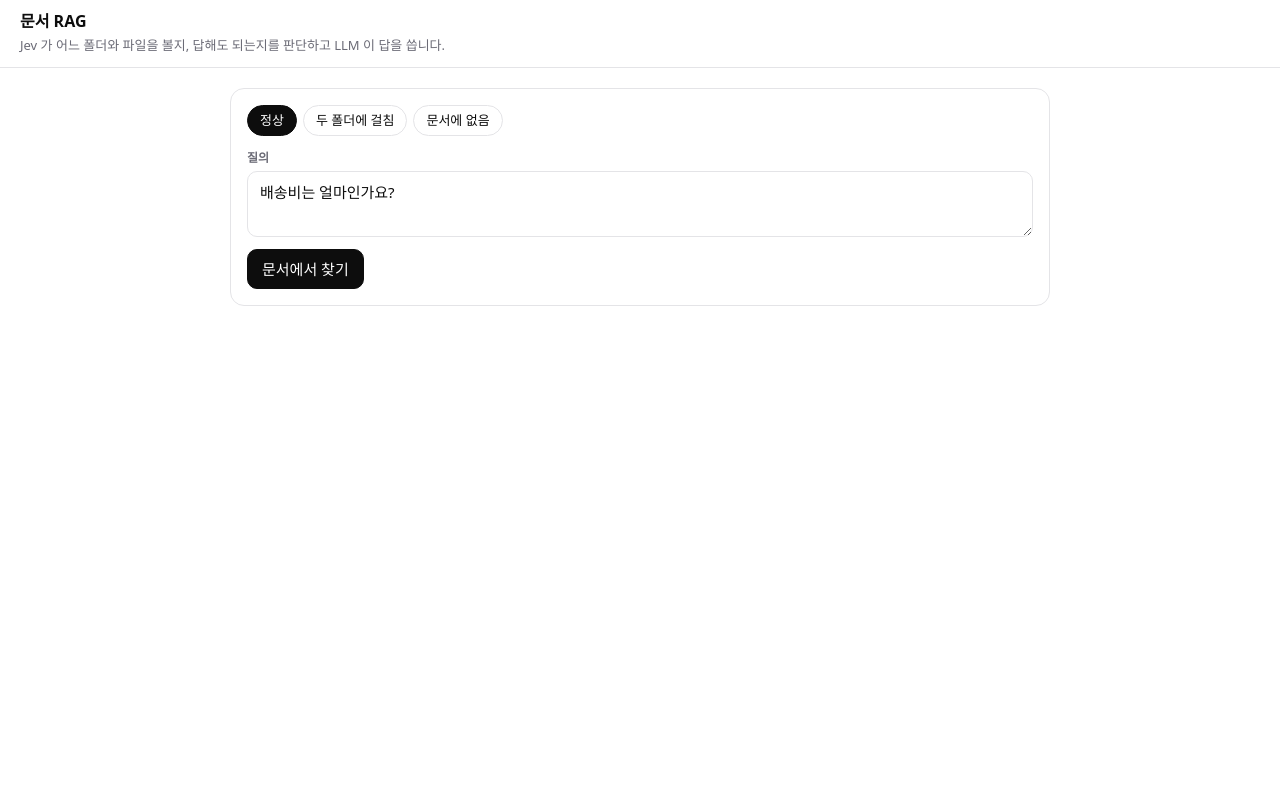
Test: RagTab › should show verdict badges with Korean labels
The width and height of the screenshot is (1280, 797).
Click the button "문서에서 찾기".
click(305, 269)  # box [247,249,364,289]
(page scrolled)
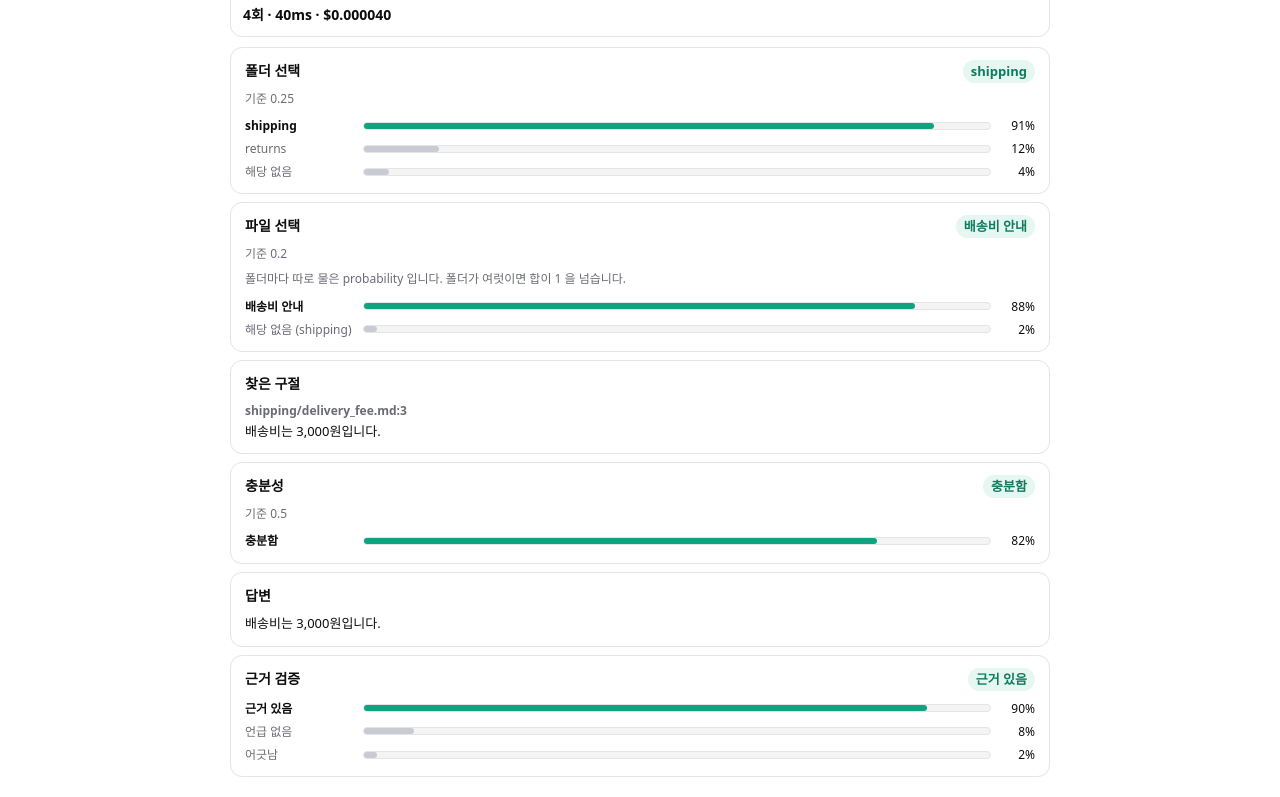
Now the text "shipping" in the row of "폴더 선택" is shown, box [971,62,1027,80]
Now the text "배송비 안내" in the row of "파일 선택" is shown, box [964,218,1027,236]
Now the text "충분함" in the row of "충분성" is shown, box [991,477,1027,495]
